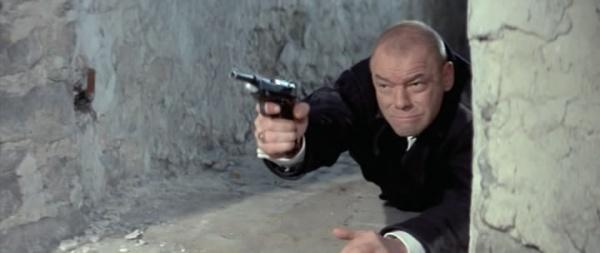Gun: (228, 70, 298, 121)
